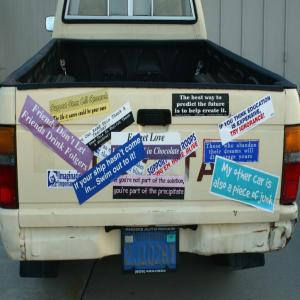Vehicle-registration-plate: (128, 231, 179, 274)
